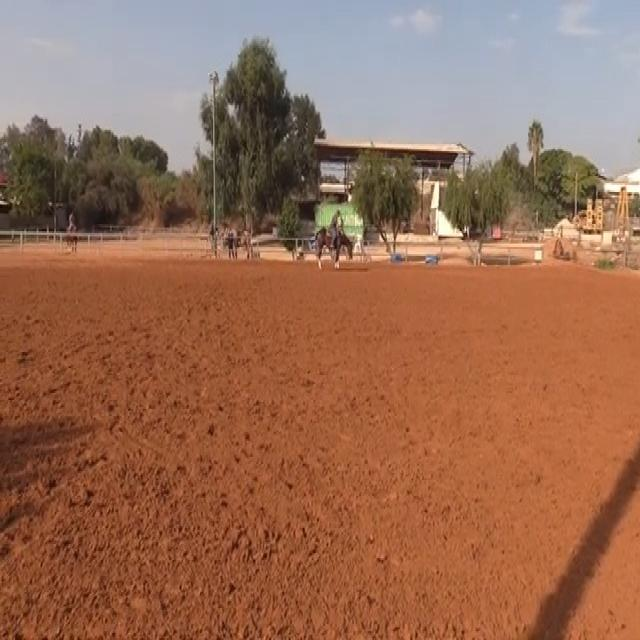horse: (311, 222, 355, 268)
